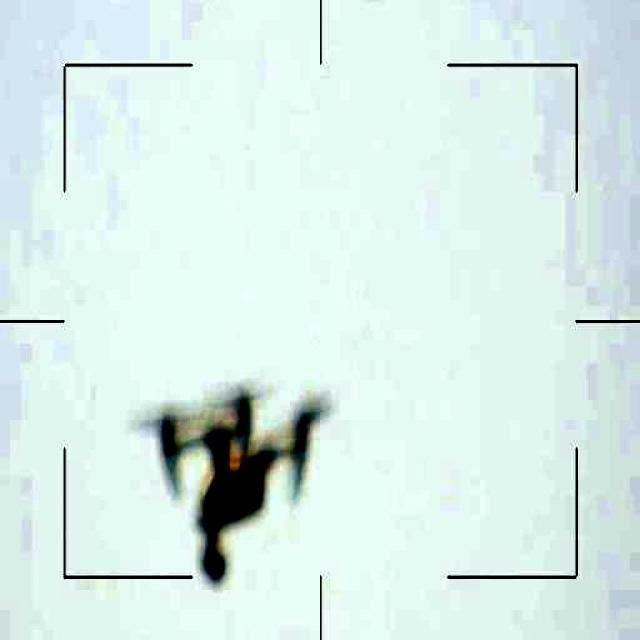bird: (135, 371, 322, 571)
